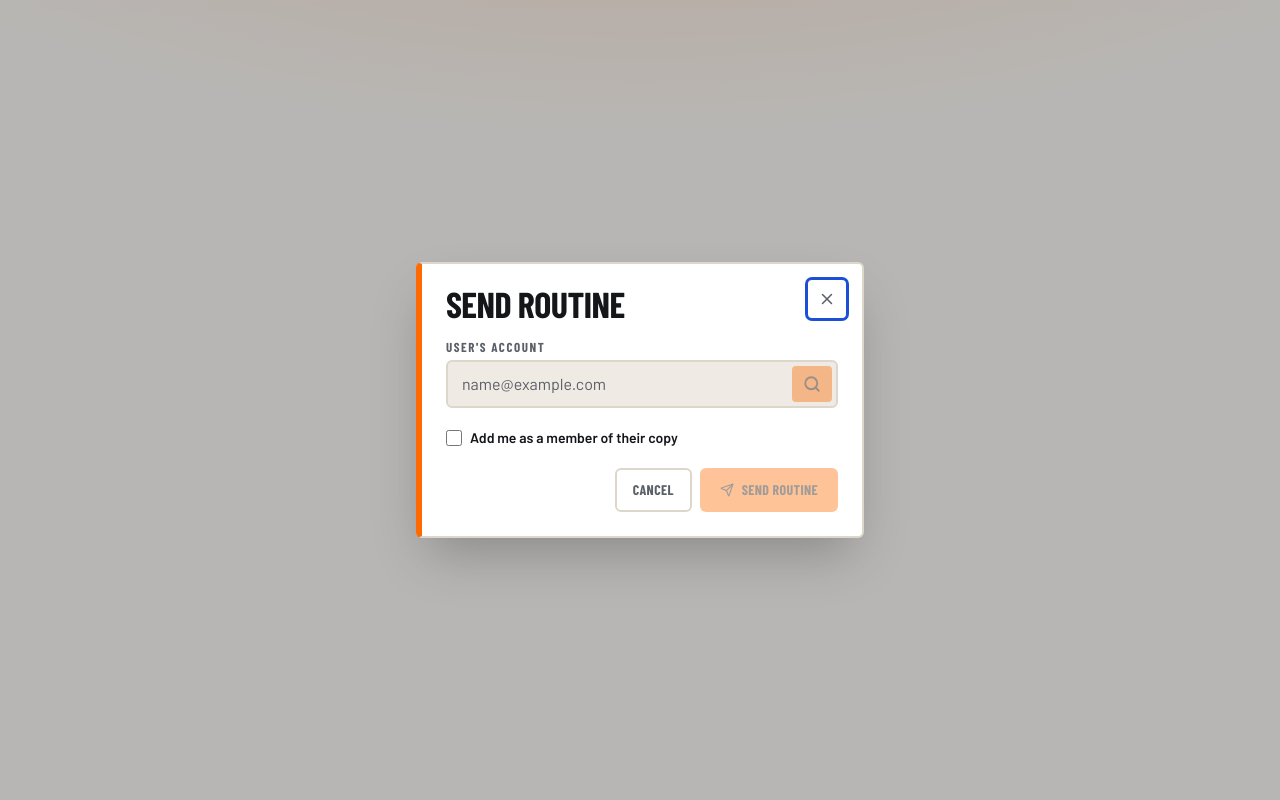
Test: SendRoutineModal › reports an email no account uses
This screenshot has width=1280, height=800.
In the field labelled "User's account": (618, 384) [448,362,788,406], type "nobody@example.com"
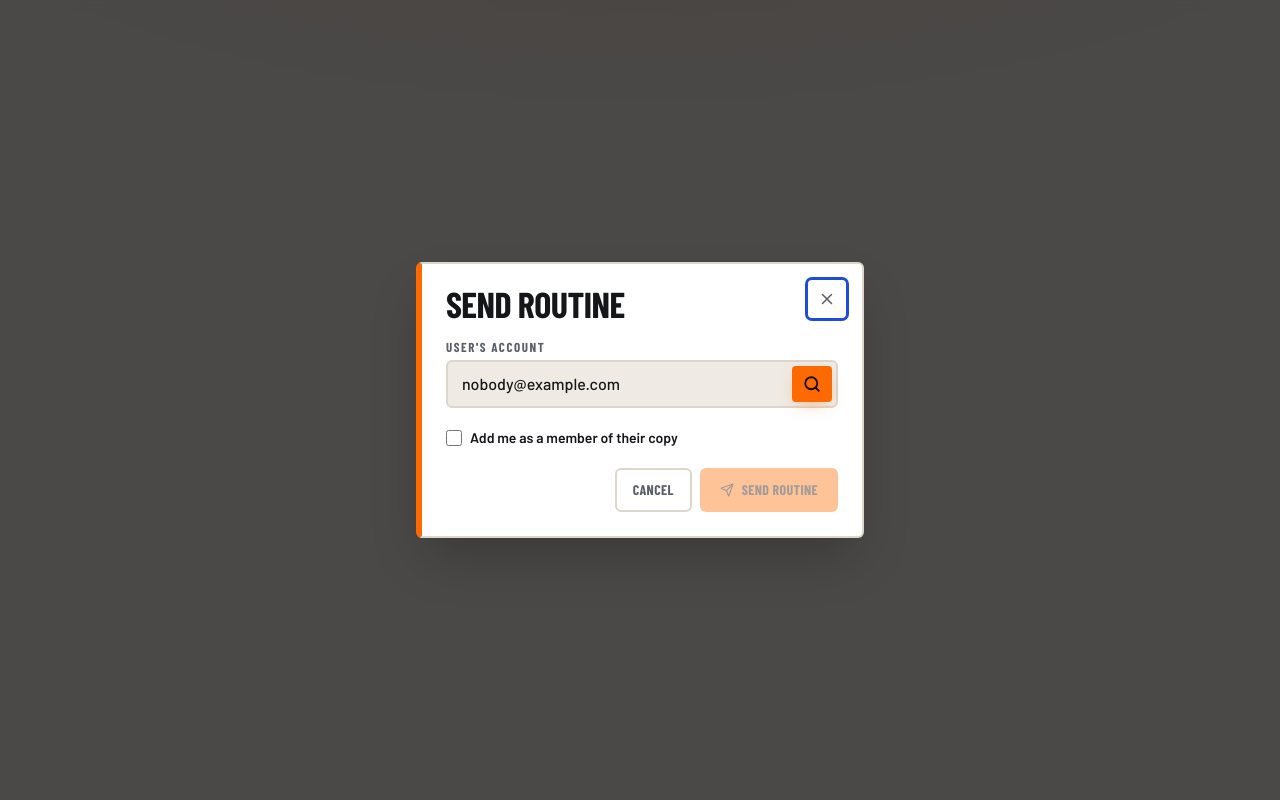
Click the button named "Search": (812, 384) [792,366,832,402]
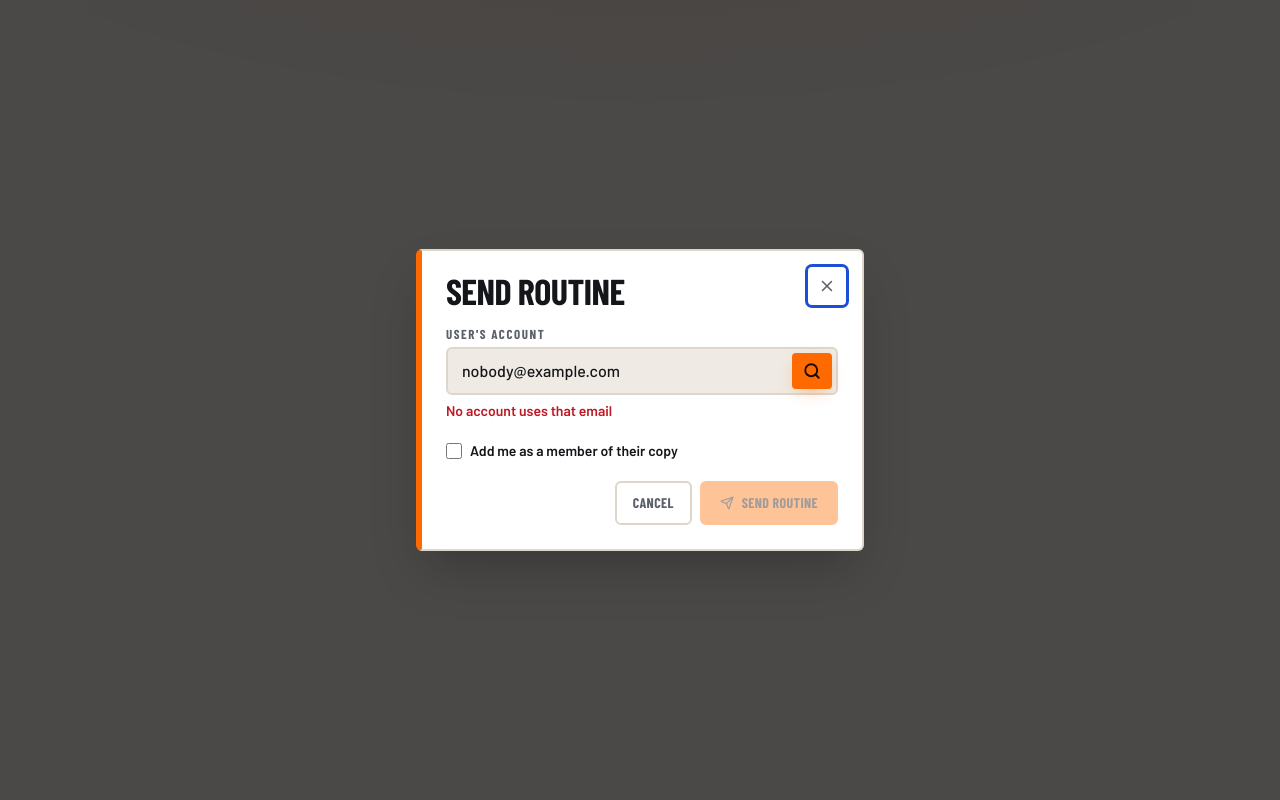
Expected: the button "Send routine" is disabled, [700,481,838,525]
Now the message reads "No account uses that email", box [446,402,612,419]
